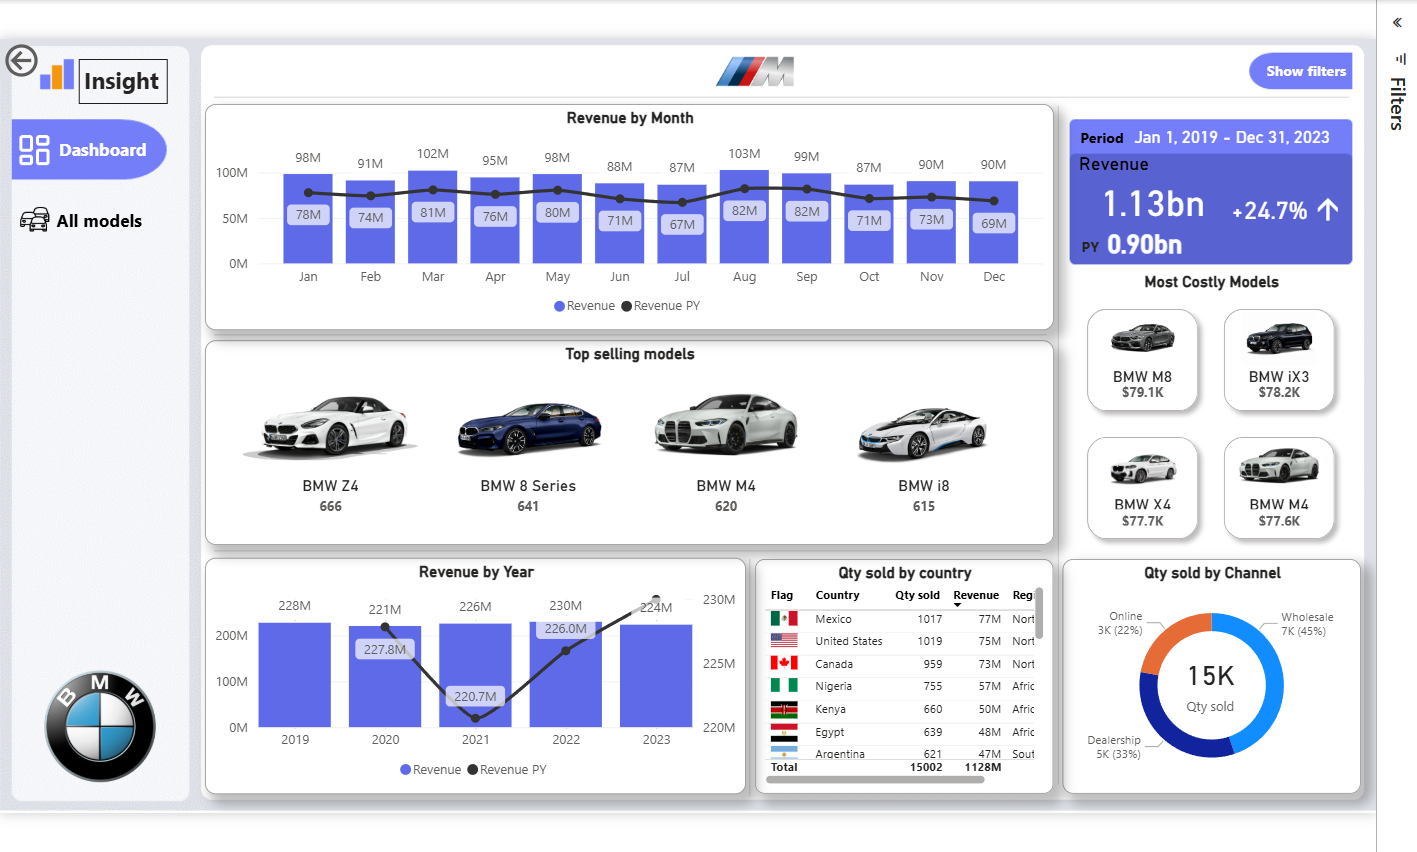

Layout of this report page (visuals, bound fields, positions):
{"tool":"powerbi","page":{"name":"Dashboard","canvas":[1280,720],"ordinal":1},"visuals":[{"type":"lineClusteredColumnComboChart","fields":{"Category":["Calendar.Month","Calendar.Weekday","Calendar.Year"],"Y":["all measures.Revenue"],"Y2":["all measures.Revenue PY"]},"box":[190.7,60.5,789.5,208.1],"z":0},{"type":"actionButton","box":[0,0,100,40],"z":1000},{"type":"advancedSlicerVisual","fields":{"Values":["PeriodSlicer.PeriodSlicer"]},"box":[182.6,5.8,250,51.2],"z":2000},{"type":"cardVisual","title":"Revenue","fields":{"Data":["all measures.Revenue"]},"box":[998.8,105.8,147.7,69.8],"z":3000},{"type":"cardVisual","fields":{"Data":["all measures.Revenue PY"]},"box":[1010.5,155.8,109.3,61.6],"z":4000},{"type":"textbox","box":[1001.2,179.1,36,38.4],"z":5000},{"type":"cardVisual","fields":{"Data":["all measures.Revenue variance % arrow"]},"box":[1127.9,118.6,138.4,68.6],"z":6000},{"type":"cardVisual","fields":{"Data":["all measures.Selected period"]},"box":[1038.4,68.6,216.3,37.2],"z":7000},{"type":"textbox","box":[1000,77.9,64,27.9],"z":8000},{"type":"advancedSlicerVisual","title":"Most Costly Models","fields":{"Values":["DimModels.Model"]},"box":[974.4,217.4,305.8,266.3],"z":9000},{"type":"clusteredColumnChart","title":"Qty sold by Year","fields":{"Y":["all measures.Qty sold","all measures.Qty sold PY"],"Category":["Calendar.Year"]},"box":[988.4,483.7,277.9,218.6],"z":10000},{"type":"donutChart","fields":{"Category":["DimChannel.Channel"],"Y":["all measures.Qty sold"]},"box":[702.3,483.7,277.9,218.6],"z":11000},{"type":"card","fields":{"Values":["all measures.Qty sold"]},"box":[788.4,558.1,103.5,82.6],"z":12000},{"type":"tableEx","title":"Qty sold by country","fields":{"Values":["DimCountry.Flag","DimCountry.Country","all measures.Qty sold","all measures.Qty sold variance % arrow","all measures.Qty sold Sparkline","all measures.Revenue","all measures.Revenue Sparkline"]},"box":[190.7,483.7,502.3,218.6],"z":13000},{"type":"image","box":[10.5,80.2,43,46.5],"z":14000},{"type":"textbox","box":[50,86.2,103.8,32.5],"z":15000},{"type":"image","box":[14,147.7,37.2,39.5],"z":16000},{"type":"textbox","box":[47.5,152.5,105,36.2],"z":17000},{"type":"actionButton","box":[10,145,142.5,43.8],"z":18000},{"type":"advancedSlicerVisual","title":"Top selling models","fields":{"Values":["DimModels.Model"]},"box":[191.2,280,788.8,188.8],"z":19000},{"type":"actionButton","box":[1164,10.1,92.5,37.6],"z":21000},{"type":"image","box":[31.5,582.8,122.9,114.2],"z":22000},{"type":"image","box":[29.5,9.8,47.8,44.6],"z":23000},{"type":"textbox","box":[73,18.5,82.6,42.4],"z":24000}]}

Visuals, with their boxes on the page's 1280x720 design canvas (x1, y1, x2, y2). These are canvas units, not pixel positions in the 1417x852 screenshot, which may show the page scaled, cropped or inside an application window:
lineClusteredColumnComboChart - Calendar.Month x Calendar.Weekday: <bbox>191, 60, 980, 269</bbox>
actionButton: <bbox>0, 0, 100, 40</bbox>
advancedSlicerVisual - PeriodSlicer.PeriodSlicer: <bbox>183, 6, 433, 57</bbox>
"Revenue" cardVisual: <bbox>999, 106, 1146, 176</bbox>
cardVisual - all measures.Revenue PY: <bbox>1010, 156, 1120, 217</bbox>
textbox: <bbox>1001, 179, 1037, 218</bbox>
cardVisual - all measures.Revenue variance % arrow: <bbox>1128, 119, 1266, 187</bbox>
cardVisual - all measures.Selected period: <bbox>1038, 69, 1255, 106</bbox>
textbox: <bbox>1000, 78, 1064, 106</bbox>
"Most Costly Models" advancedSlicerVisual: <bbox>974, 217, 1280, 484</bbox>
"Qty sold by Year" clusteredColumnChart: <bbox>988, 484, 1266, 702</bbox>
donutChart - DimChannel.Channel x all measures.Qty sold: <bbox>702, 484, 980, 702</bbox>
card - all measures.Qty sold: <bbox>788, 558, 892, 641</bbox>
"Qty sold by country" tableEx: <bbox>191, 484, 693, 702</bbox>
image: <bbox>10, 80, 54, 127</bbox>
textbox: <bbox>50, 86, 154, 119</bbox>
image: <bbox>14, 148, 51, 187</bbox>
textbox: <bbox>48, 152, 152, 189</bbox>
actionButton: <bbox>10, 145, 152, 189</bbox>
"Top selling models" advancedSlicerVisual: <bbox>191, 280, 980, 469</bbox>
actionButton: <bbox>1164, 10, 1256, 48</bbox>
image: <bbox>32, 583, 154, 697</bbox>
image: <bbox>30, 10, 77, 54</bbox>
textbox: <bbox>73, 18, 156, 61</bbox>
